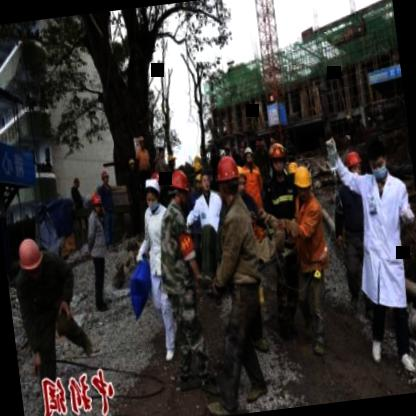head: (365, 139, 391, 183), (140, 177, 164, 213), (196, 168, 212, 192), (73, 176, 81, 188)
helmet: (211, 151, 243, 204), (13, 232, 46, 277), (166, 168, 194, 206), (264, 141, 290, 175), (291, 164, 314, 201), (340, 146, 364, 180), (233, 164, 248, 192), (148, 169, 164, 192), (89, 193, 104, 216), (243, 145, 254, 165), (136, 134, 148, 152), (100, 170, 111, 186), (126, 156, 136, 173), (192, 159, 204, 173)
